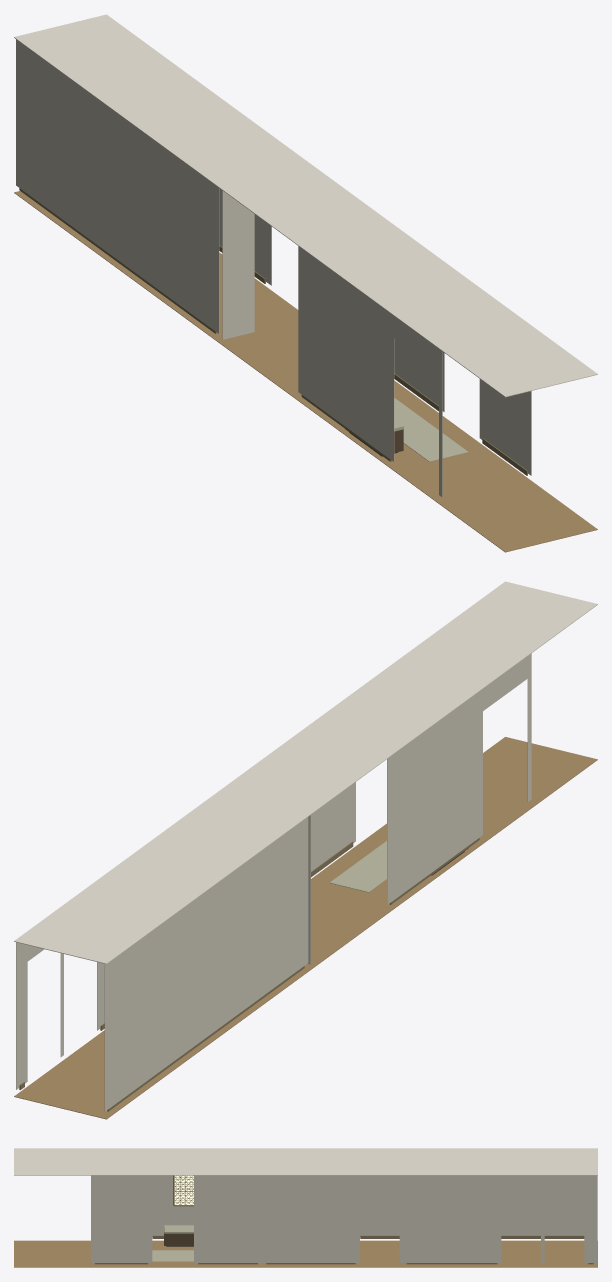
File: corridor-1.glb
3 renders of one model, top to bottom at view 1: azimuth 30°, elevation 25°; view 2: azimuth 150°, elevation 25°; view 3: azimuth 270°, elevation 25°, orthographic. The views are drawn at different scales.
Parts seen in each view (by area): view 1: DESIGN | Entrance coordinated ceiling, DESIGN | Entrance paired wall finish, DESIGN | Entrance floor finish, DESIGN | Entrance paired wall finish.003, DESIGN | Arch approach finish, DESIGN | Entrance paired wall finish.013, DESIGN | Entrance quiet runner, DESIGN | Entrance paired wall finish.012, DESIGN | Entrance paired wall finish.006, DESIGN | Entrance paired wall finish.002; view 2: DESIGN | Entrance coordinated ceiling, DESIGN | Entrance paired wall finish, DESIGN | Entrance floor finish, DESIGN | Entrance paired wall finish.003, DESIGN | Entrance paired wall finish.012, DESIGN | Entrance paired wall finish.005, DESIGN | Entrance quiet runner, DESIGN | Entrance paired wall finish.002, DESIGN | Entrance paired wall finish.001; view 3: DESIGN | Entrance coordinated ceiling, DESIGN | Entrance paired wall finish.006, DESIGN | Entrance paired wall finish.009, DESIGN | Entrance floor finish, DESIGN | Entrance paired wall finish.012, DESIGN | Entrance paired wall finish, DESIGN | Entrance paired wall finish.013, DESIGN | Entrance paired wall finish.003, DESIGN | Entrance paired wall finish.005, DESIGN | Entrance paired wall finish.007, DESIGN | Entrance paired wall finish.010, DESIGN | Entrance paired wall finish.004 (+8 smaller).
Part boxes in pixels (left/top/right/bottom): DESIGN | Entrance coordinated ceiling: left=14, top=14, right=597, bottom=397; DESIGN | Entrance paired wall finish: left=16, top=39, right=219, bottom=333; DESIGN | Entrance floor finish: left=14, top=191, right=597, bottom=552; DESIGN | Entrance paired wall finish.003: left=298, top=246, right=394, bottom=461; DESIGN | Arch approach finish: left=222, top=190, right=254, bottom=339; DESIGN | Entrance paired wall finish.013: left=479, top=379, right=531, bottom=475; DESIGN | Entrance quiet runner: left=394, top=398, right=468, bottom=461; DESIGN | Entrance paired wall finish.012: left=394, top=339, right=444, bottom=411; DESIGN | Entrance paired wall finish.006: left=219, top=188, right=268, bottom=283; DESIGN | Entrance paired wall finish.002: left=394, top=316, right=438, bottom=370; DESIGN | Entrance coordinated ceiling: left=14, top=581, right=597, bottom=964; DESIGN | Entrance paired wall finish: left=104, top=817, right=308, bottom=1111; DESIGN | Entrance floor finish: left=14, top=737, right=597, bottom=1119; DESIGN | Entrance paired wall finish.003: left=387, top=689, right=482, bottom=904; DESIGN | Entrance paired wall finish.012: left=311, top=782, right=355, bottom=871; DESIGN | Entrance paired wall finish.005: left=16, top=942, right=27, bottom=1089; DESIGN | Entrance quiet runner: left=329, top=841, right=386, bottom=892; DESIGN | Entrance paired wall finish.002: left=483, top=656, right=527, bottom=710; DESIGN | Entrance paired wall finish.001: left=527, top=653, right=531, bottom=801; DESIGN | Entrance coordinated ceiling: left=14, top=1148, right=597, bottom=1175; DESIGN | Entrance paired wall finish.006: left=402, top=1175, right=501, bottom=1262; DESIGN | Entrance paired wall finish.009: left=262, top=1175, right=359, bottom=1262; DESIGN | Entrance floor finish: left=14, top=1240, right=597, bottom=1267; DESIGN | Entrance paired wall finish.012: left=194, top=1175, right=262, bottom=1262; DESIGN | Entrance paired wall finish: left=360, top=1176, right=584, bottom=1236; DESIGN | Entrance paired wall finish.013: left=91, top=1175, right=152, bottom=1262; DESIGN | Entrance paired wall finish.003: left=152, top=1175, right=193, bottom=1236; DESIGN | Entrance paired wall finish.005: left=584, top=1175, right=597, bottom=1262; DESIGN | Entrance paired wall finish.007: left=501, top=1175, right=540, bottom=1191; DESIGN | Entrance paired wall finish.010: left=360, top=1175, right=399, bottom=1191; DESIGN | Entrance paired wall finish.004: left=545, top=1175, right=584, bottom=1191.
Bounding box in the file's own units: 1.7 × 2.73 × 15.61.
